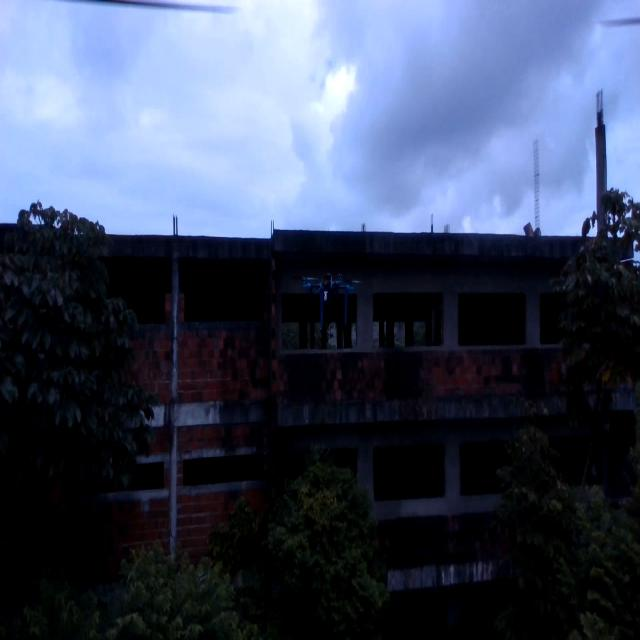-uav-: (294, 260, 368, 336)
